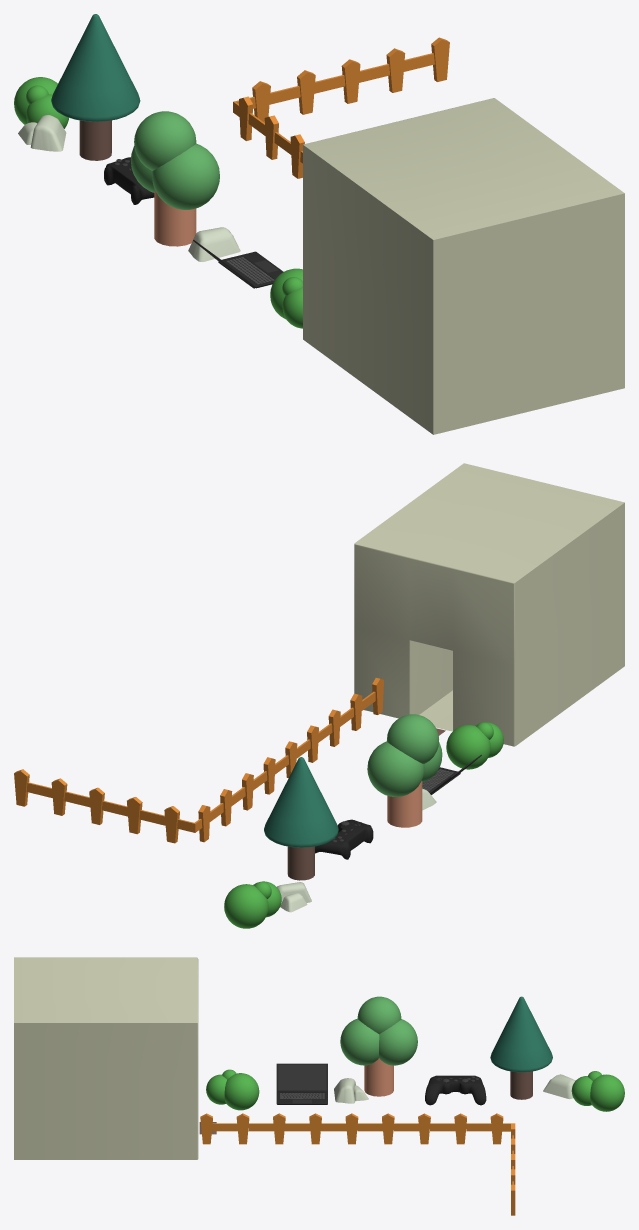
Rendered from Outside.glb.
3 views of the same model, one above another, from view 1: azimuth 30°, elevation 25°; view 2: azimuth 150°, elevation 25°; view 3: azimuth 270°, elevation 25° (orthographic). The views are drawn at different scales.
Parts seen in each view (by area): view 1: House, RoundTree, PineTree, Pole.001, Bush.001, Wood.001, Bush, Pole, Rock.001, Rock, Controller, LaptopBody; view 2: House, RoundTree, PineTree, Pole, Pole.001, Bush.001, Bush, Wood, Controller, Wood.001, Rock.001; view 3: House, RoundTree, PineTree, Pole, Wood, Bush, Bush.001, LaptopScreen, Controller, Rock, LaptopBody, Rock.001 (+1 smaller).
Part boxes in pixels (box(x1,y1,x2,y2)): House: box(303, 98, 624, 434); RoundTree: box(130, 111, 219, 246); PineTree: box(51, 14, 140, 160); Pole.001: box(252, 37, 449, 122); Bush.001: box(14, 77, 68, 128); Wood.001: box(269, 53, 434, 104); Bush: box(270, 268, 302, 328); Pole: box(239, 96, 304, 178); Rock.001: box(18, 115, 66, 151); Rock: box(188, 227, 240, 261); Controller: box(104, 157, 154, 204); LaptopBody: box(218, 251, 283, 288); House: box(354, 463, 624, 746); RoundTree: box(367, 714, 442, 827); PineTree: box(264, 757, 338, 880); Pole: box(198, 678, 383, 842); Pole.001: box(14, 769, 179, 843); Bush.001: box(224, 881, 281, 928); Bush: box(446, 722, 503, 769); Wood: box(209, 691, 375, 821); Controller: box(315, 819, 373, 859); Wood.001: box(26, 782, 165, 825); Rock.001: box(277, 882, 311, 912); House: box(14, 957, 198, 1159); RoundTree: box(340, 996, 417, 1096); PineTree: box(490, 996, 552, 1099); Pole: box(200, 1113, 503, 1144); Wood: box(212, 1123, 491, 1131); Bush: box(206, 1069, 259, 1110); Bush.001: box(571, 1071, 624, 1111); LaptopScreen: box(278, 1065, 326, 1090); Controller: box(425, 1075, 486, 1105); Rock: box(334, 1078, 368, 1103); LaptopBody: box(276, 1091, 327, 1104); Rock.001: box(543, 1074, 575, 1099).
Size of what is drawn, in the model's own units: 4.34 by 2.08 by 8.06.
